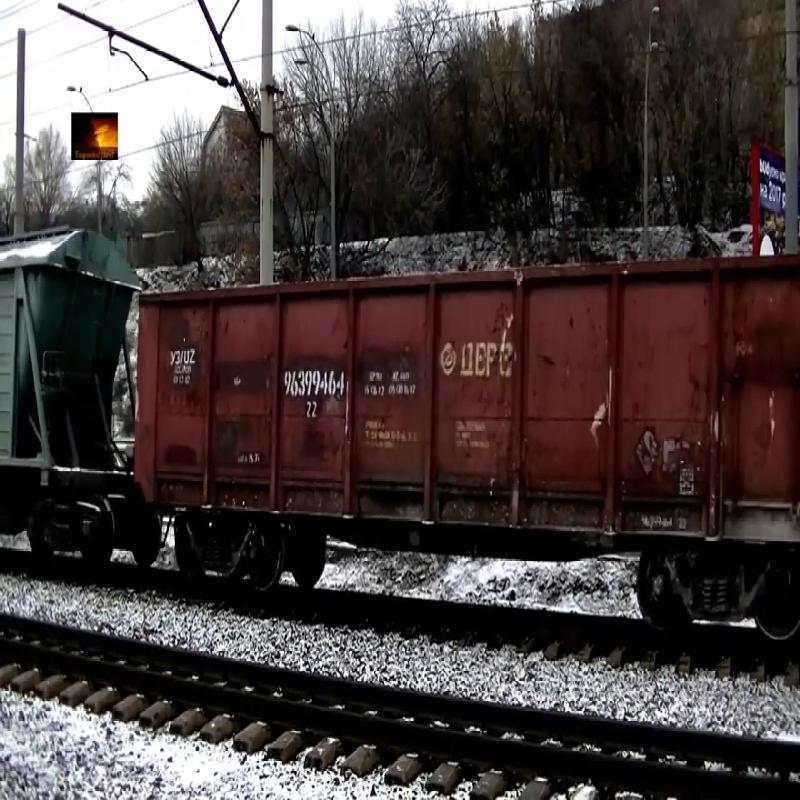train: (134, 248, 800, 562), (1, 214, 129, 526)
